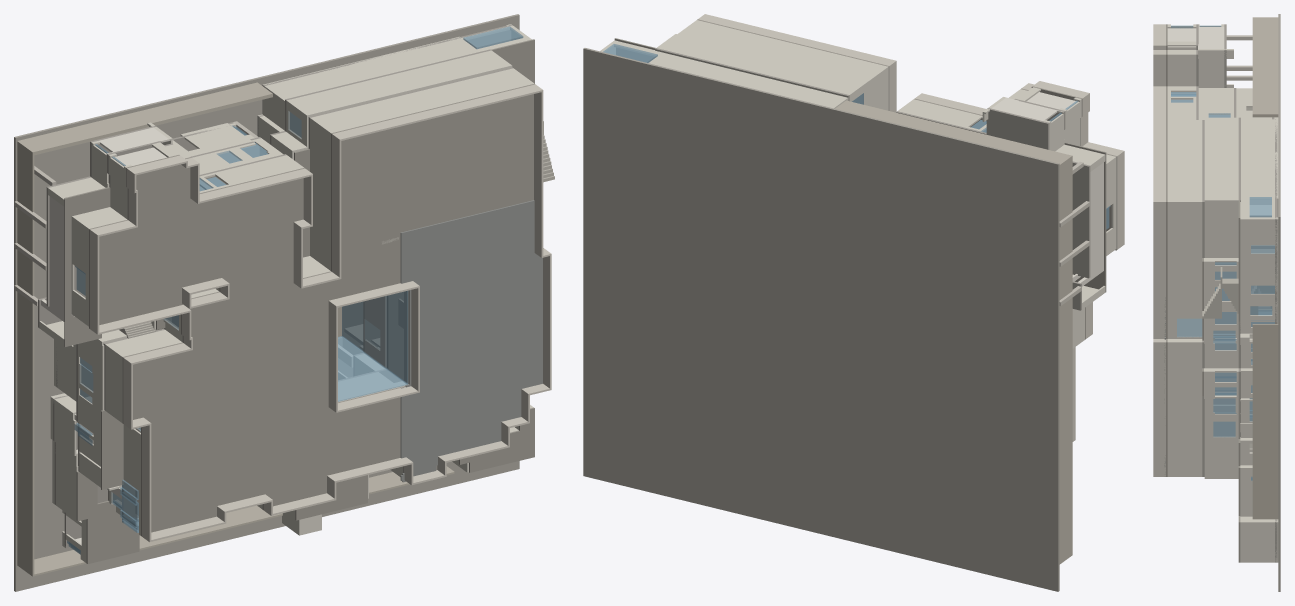
Rendered from Disrupt_141C_v3_final.glb.
The picture shows the model from 3 angles, left to right: view 1: azimuth 30°, elevation 25°; view 2: azimuth 150°, elevation 25°; view 3: azimuth 270°, elevation 25°; orthographic projection. The views are drawn at different scales.
Parts seen in each view (by area): view 1: Roof_Level_35-3_Slab, Roof_Corrugated_Sheet, Roof_Level_35-3_Parapet, Ground_Apron, SF_External_Walls, Site_Boundary_Wall, FF_External_Walls, GF_External_Walls, Roof_Level_12-5_Slab, Courtyard_Glazing, Roof_Level_23-10_Slab, SF_Slab (+10 smaller); view 2: Ground_Apron, SF_External_Walls, Site_Boundary_Wall, FF_External_Walls, Roof_Level_35-3_Parapet, FF_Slab, GF_External_Walls, FF_Internal_Walls, Roof_Level_35-3_Slab, Roof_Level_23-10_Slab, GF_Columns; view 3: SF_External_Walls, FF_External_Walls, GF_External_Walls, Site_Boundary_Wall, Roof_Level_35-3_Parapet, FF_Internal_Walls, FF_Glazing, Ground_Apron, GF_Glazing, SF_Slab, SF_Internal_Walls, FF_Stairs (+9 smaller).
Boxes of the visible parts, box(x1,y1,x2,y2) form: Roof_Level_35-3_Slab: box(89, 83, 543, 536); Roof_Corrugated_Sheet: box(400, 200, 542, 482); Roof_Level_35-3_Parapet: box(90, 84, 551, 542); Ground_Apron: box(14, 14, 519, 591); SF_External_Walls: box(71, 68, 533, 535); Site_Boundary_Wall: box(17, 82, 454, 576); FF_External_Walls: box(39, 50, 512, 525); GF_External_Walls: box(50, 24, 533, 563); Roof_Level_12-5_Slab: box(76, 39, 534, 564); Courtyard_Glazing: box(338, 290, 408, 401); Roof_Level_23-10_Slab: box(64, 148, 309, 489); SF_Slab: box(71, 67, 512, 522); Ground_Apron: box(583, 48, 1059, 591); SF_External_Walls: box(677, 20, 1116, 348); Site_Boundary_Wall: box(835, 100, 1072, 564); FF_External_Walls: box(657, 34, 1105, 309); Roof_Level_35-3_Parapet: box(698, 14, 1124, 441); FF_Slab: box(655, 48, 1090, 310); GF_External_Walls: box(600, 40, 848, 108); FF_Internal_Walls: box(991, 97, 1103, 286); Roof_Level_35-3_Slab: box(697, 19, 1117, 339); Roof_Level_23-10_Slab: box(1064, 142, 1106, 292); GF_Columns: box(1059, 161, 1089, 306); SF_External_Walls: box(1167, 24, 1202, 476); FF_External_Walls: box(1198, 24, 1238, 478); GF_External_Walls: box(1236, 88, 1278, 562); Site_Boundary_Wall: box(1252, 17, 1278, 519); Roof_Level_35-3_Parapet: box(1153, 24, 1165, 476); FF_Internal_Walls: box(1198, 27, 1236, 436); FF_Glazing: box(1199, 25, 1236, 437); Ground_Apron: box(1278, 14, 1280, 591); GF_Glazing: box(1249, 197, 1274, 480); SF_Slab: box(1196, 24, 1204, 476); SF_Internal_Walls: box(1167, 28, 1201, 336); FF_Stairs: box(1202, 267, 1238, 318).
Size of the model in its own units: 151 by 132 by 40.
